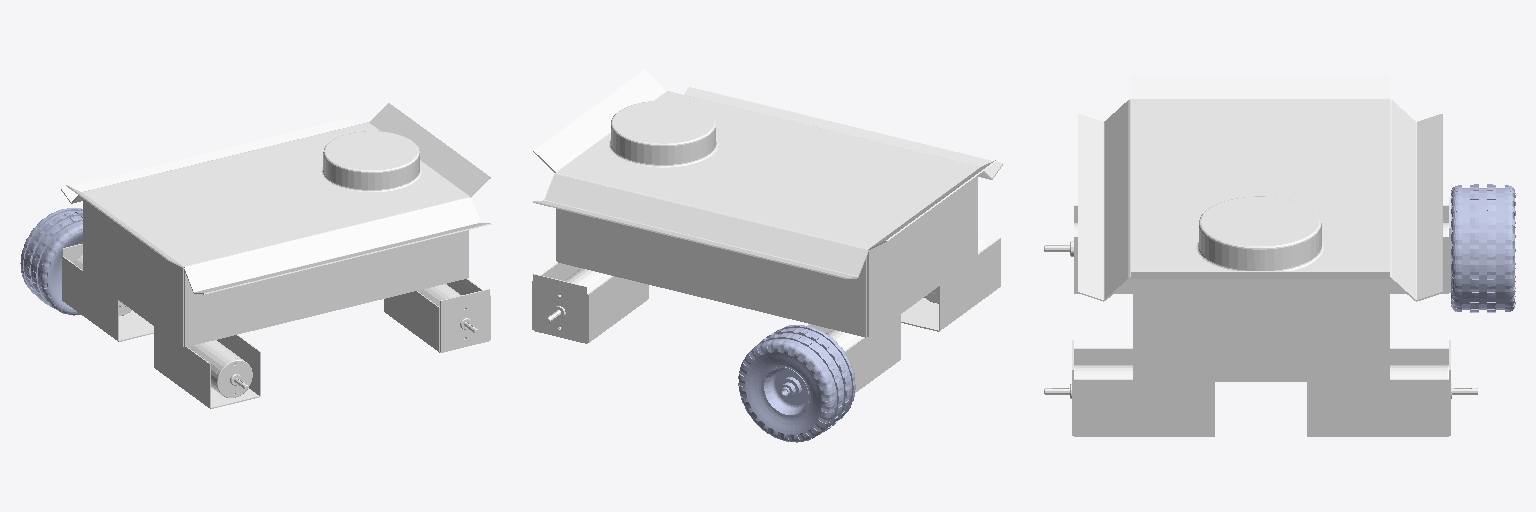
URDF robot description (proyecto):
<?xml version="1.0" encoding="utf-8"?>
<!-- This URDF was automatically created by SolidWorks to URDF Exporter! Originally created by [author] ([email redacted]) 
     Commit Version: 1.6.0-4-g7f85cfe  Build Version: 1.6.7995.38578
     For more information, please see http://wiki.ros.org/sw_urdf_exporter -->
<robot
  name="proyecto">
  <link name="dummy">
   </link>
  <link
    name="base_link">
    <inertial>
      <origin
        xyz="0.0238551640441538 0.0295955080939407 -0.150383488449588"
        rpy="0 0 0" />
      <mass
        value="4.58423641056187" />
      <inertia
        ixx="0.0171426025781744"
        ixy="-0.00117297644050985"
        ixz="-6.44110873168587E-07"
        iyy="0.0611975209416774"
        iyz="-1.44180477906026E-08"
        izz="0.047936942239142" />
    </inertial>
    <visual>
      <origin
        xyz="0 0 0"
        rpy="0 0 0" />
      <geometry>
        <mesh
          filename="package://proyecto/meshes/base_link.STL" />
      </geometry>
      <material
        name="">
        <color
          rgba="0.996078431372549 0.996078431372549 1 1" />
      </material>
    </visual>
    <collision>
      <origin
        xyz="0 0 0"
        rpy="0 0 0" />
      <geometry>
        <mesh
          filename="package://proyecto/meshes/base_link.STL" />
      </geometry>
    </collision>
  </link>
  <link
    name="rueda_1">
    <inertial>
      <origin
        xyz="-5.707782267661E-07 1.62246123321108E-07 -0.0158002809636204"
        rpy="0 0 0" />
      <mass
        value="1.1617081622077" />
      <inertia
        ixx="0.00236389228715147"
        ixy="4.31489359287888E-09"
        ixz="-1.0352494720813E-08"
        iyy="0.00236389275249923"
        iyz="-3.84382849696802E-10"
        izz="0.00380474886030968" />
    </inertial>
    <visual>
      <origin
        xyz="0 0 0"
        rpy="0 0 0" />
      <geometry>
        <mesh
          filename="package://proyecto/meshes/rueda_1.STL" />
      </geometry>
      <material
        name="">
        <color
          rgba="0.792156862745098 0.819607843137255 0.933333333333333 1" />
      </material>
    </visual>
    <collision>
      <origin
        xyz="0 0 0"
        rpy="0 0 0" />
      <geometry>
        <mesh
          filename="package://proyecto/meshes/rueda_1.STL" />
      </geometry>
    </collision>
  </link>
  <joint
    name="motor_1"
    type="continuous">
    <origin
      xyz="-0.206 -0.13662 -0.041"
      rpy="1.5708 0 0" />
    <parent
      link="base_link" />
    <child
      link="rueda_1" />
    <axis xyz="0 1 0" />
  </joint>
  <link
    name="rueda_2">
    <inertial>
      <origin
        xyz="-5.70939932748038E-07 1.70203824825799E-07 -0.0158002845036977"
        rpy="0 0 0" />
      <mass
        value="1.16170802075831" />
      <inertia
        ixx="0.00236389190749364"
        ixy="4.17076010684076E-09"
        ixz="-1.02346075643399E-08"
        iyy="0.00236389199803286"
        iyz="-3.3379979456675E-10"
        izz="0.00380474815292817" />
    </inertial>
    <visual>
      <origin
        xyz="0 0 0"
        rpy="0 0 0" />
      <geometry>
        <mesh
          filename="package://proyecto/meshes/rueda_2.STL" />
      </geometry>
      <material
        name="">
        <color
          rgba="0.792156862745098 0.819607843137255 0.933333333333333 1" />
      </material>
    </visual>
    <collision>
      <origin
        xyz="0 0 0"
        rpy="0 0 0" />
      <geometry>
        <mesh
          filename="package://proyecto/meshes/rueda_2.STL" />
      </geometry>
    </collision>
  </link>
  <joint
    name="motor_2"
    type="continuous">
    <origin
      xyz="0.206 -0.13722 -0.041"
      rpy="1.5708 0 0" />
    <parent
      link="base_link" />
    <child
      link="rueda_2" />
    <axis
      xyz="0 1 0" />
  </joint>
  <link
    name="rueda_3">
    <inertial>
      <origin
        xyz="-5.68417477253558E-07 1.5914319984045E-07 -0.0158002861455108"
        rpy="0 0 0" />
      <mass
        value="1.16170796588524" />
      <inertia
        ixx="0.00236389186490612"
        ixy="4.01027152496691E-09"
        ixz="-1.02259963222408E-08"
        iyy="0.00236389220132705"
        iyz="-6.50631578097961E-11"
        izz="0.00380474818303864" />
    </inertial>
    <visual>
      <origin
        xyz="0 0 0"
        rpy="0 0 0" />
      <geometry>
        <mesh
          filename="package://proyecto/meshes/rueda_3.STL" />
      </geometry>
      <material
        name="">
        <color
          rgba="0.792156862745098 0.819607843137255 0.933333333333333 1" />
      </material>
    </visual>
    <collision>
      <origin
        xyz="0 0 0"
        rpy="0 0 0" />
      <geometry>
        <mesh
          filename="package://proyecto/meshes/rueda_3.STL" />
      </geometry>
    </collision>
  </link>
  <joint
    name="motor_3"
    type="continuous">
    <origin
      xyz="0.206 0.40485 -0.041"
      rpy="1.5708 0 0" />
    <parent
      link="base_link" />
    <child
      link="rueda_3" />
    <axis
      xyz="0 1 0" />
  </joint>
  <link
    name="rueda_4">
    <inertial>
      <origin
        xyz="-5.6539903606212E-07 1.59169349568666E-07 -0.0158002801193847"
        rpy="0 0 0" />
      <mass
        value="1.16170814603751" />
      <inertia
        ixx="0.00236389150685971"
        ixy="4.25227136254966E-09"
        ixz="-1.01857246698411E-08"
        iyy="0.00236389215419066"
        iyz="-1.42758019381842E-10"
        izz="0.0038047478960785" />
    </inertial>
    <visual>
      <origin
        xyz="0 0 0"
        rpy="0 0 0" />
      <geometry>
        <mesh
          filename="package://proyecto/meshes/rueda_4.STL" />
      </geometry>
      <material
        name="">
        <color
          rgba="0.792156862745098 0.819607843137255 0.933333333333333 1" />
      </material>
    </visual>
    <collision>
      <origin
        xyz="0 0 0"
        rpy="0 0 0" />
      <geometry>
        <mesh
          filename="package://proyecto/meshes/rueda_4.STL" />
      </geometry>
    </collision>
  </link>
  <joint
    name="motor_4"
    type="continuous">
    <origin
      xyz="-0.206 0.40485 -0.041"
      rpy="1.5708 0 0" />
    <parent
      link="base_link" />
    <child
      link="rueda_4" />
    <axis
      xyz="0 1 0" />
  </joint>
  
  <joint name="dummy_joint" type="fixed">
    <parent link="dummy"/>
     <child link="base_link"/>
   </joint>
  
  <transmission name="tran1">
    <type>transmission_interface/SimpleTransmission</type>
    <joint name="motor_1">
      <hardwareInterface>hardware_interface/PositionJointInterface</hardwareInterface>
    </joint>
    <actuator name="motor1">
      <hardwareInterface>hardware_interface/PositionJointInterface</hardwareInterface>
      <mechanicalReduction>1</mechanicalReduction>
    </actuator>
  </transmission>

  <transmission name="tran2">
    <type>transmission_interface/SimpleTransmission</type>
    <joint name="motor_2">
      <hardwareInterface>hardware_interface/PositionJointInterface</hardwareInterface>
    </joint>
    <actuator name="motor2">
      <hardwareInterface>hardware_interface/PositionJointInterface</hardwareInterface>
      <mechanicalReduction>1</mechanicalReduction>
    </actuator>
  </transmission>

  <transmission name="tran3">
    <type>transmission_interface/SimpleTransmission</type>
    <joint name="motor_3">
      <hardwareInterface>hardware_interface/PositionJointInterface</hardwareInterface>
    </joint>
    <actuator name="motor3">
      <hardwareInterface>hardware_interface/PositionJointInterface</hardwareInterface>
      <mechanicalReduction>1</mechanicalReduction>
    </actuator>
  </transmission>

  <transmission name="tran4">
    <type>transmission_interface/SimpleTransmission</type>
    <joint name="motor_4">
      <hardwareInterface>hardware_interface/PositionJointInterface</hardwareInterface>
    </joint>
    <actuator name="motor4">
      <hardwareInterface>hardware_interface/PositionJointInterface</hardwareInterface>
      <mechanicalReduction>1</mechanicalReduction>
    </actuator>
  </transmission>

</robot>

--- Facts derived from the render (not from the file) ---
The picture shows the robot from 3 angles, left to right: view 1: azimuth 30°, elevation 25°; view 2: azimuth 150°, elevation 25°; view 3: azimuth 270°, elevation 25°; orthographic projection.
Robot: proyecto — 6 links, 5 joints (4 continuous, 1 fixed); root link dummy; default pose: every joint at zero.
Links seen in each view (by area): view 1: base_link, rueda_4; view 2: base_link, rueda_4; view 3: base_link, rueda_4.
Boxes of the visible links, x1=… form: base_link: x1=61, y1=103, x2=491, y2=408; rueda_4: x1=20, y1=208, x2=82, y2=315; base_link: x1=532, y1=70, x2=1002, y2=392; rueda_4: x1=738, y1=325, x2=855, y2=442; base_link: x1=1044, y1=75, x2=1477, y2=436; rueda_4: x1=1451, y1=184, x2=1515, y2=312.
Size in the robot's own frame: 0.5805 by 0.5746 by 0.291 metres.
Meshes: 5 distinct files referenced, 2 mesh visuals loaded (2 binary STL); not drawn: 3 (reference not matched to a file when rendering).